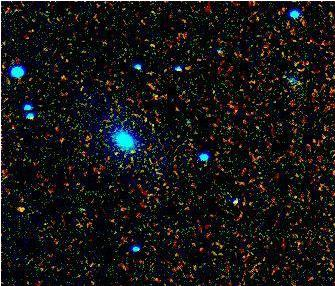star: (1, 193, 31, 223)
